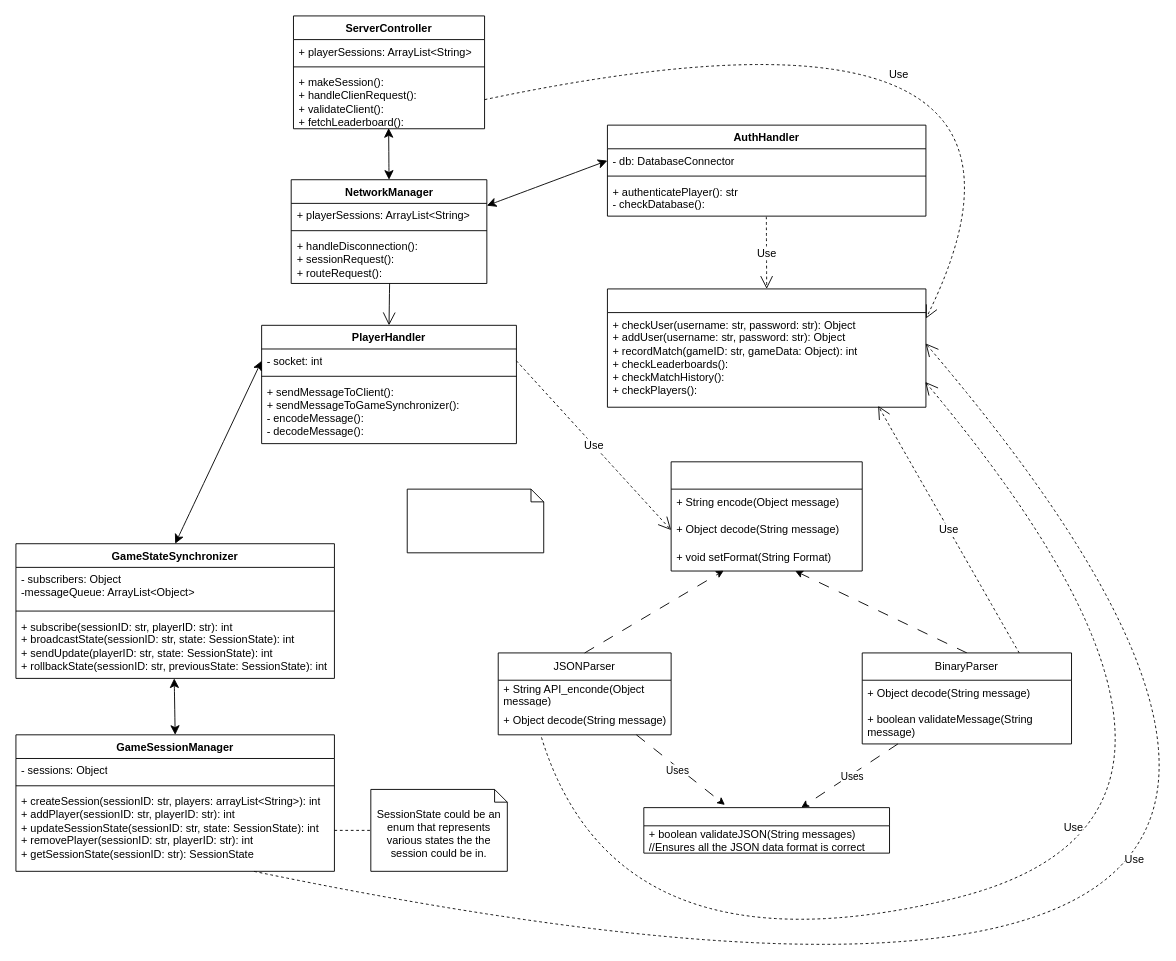
This 1176x961 diagram has some shape labels left out. Each missing label, with the box of its shape:
<<Interface>> MessageParser: (670, 461, 862, 571)
DatabaseConnector: (607, 288, 926, 407)
Many methods return an int value to signify if the method had an error.: (406, 488, 544, 553)
Validator: (643, 807, 890, 853)
